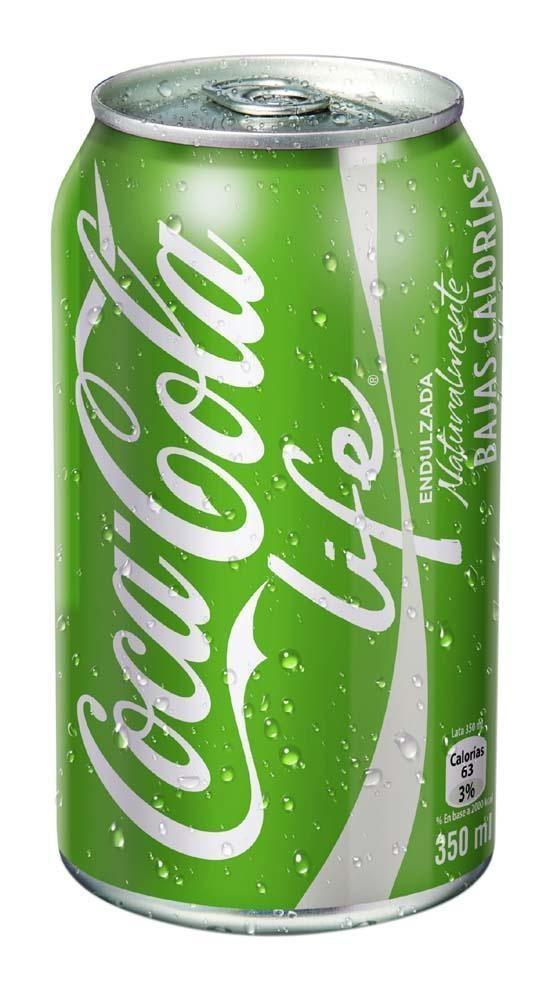tin can: (47, 54, 505, 935)
